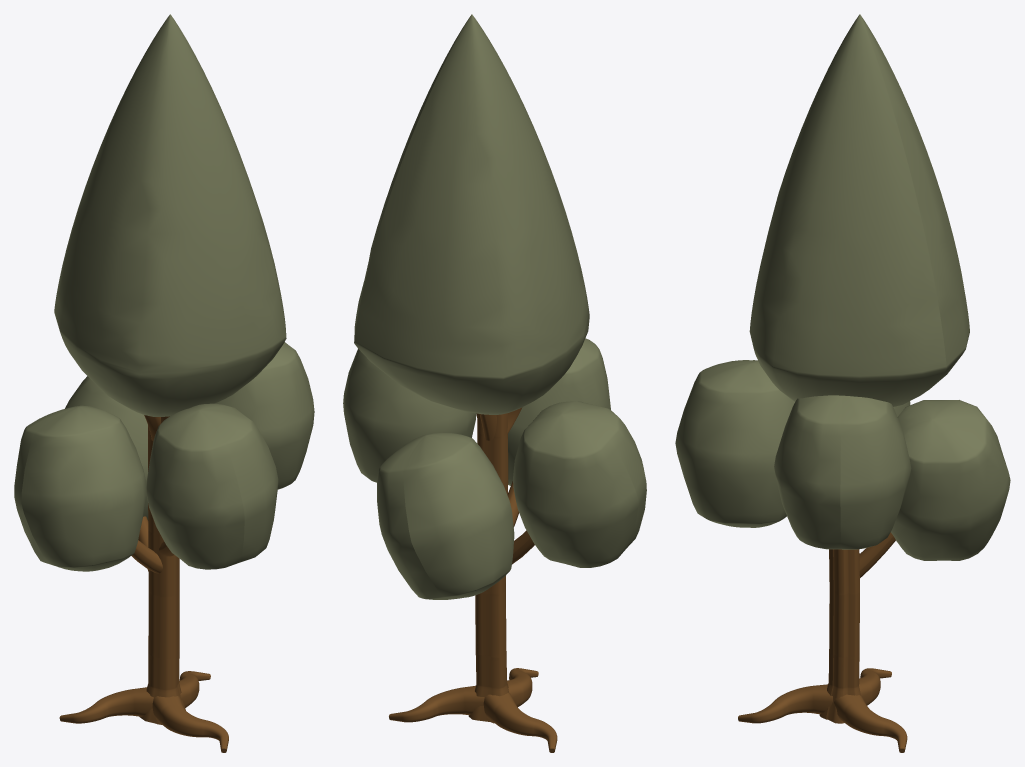
The model's file is RoadTree.fbx.
3 renders of one model, left to right at view 1: azimuth 30°, elevation 25°; view 2: azimuth 150°, elevation 25°; view 3: azimuth 270°, elevation 25°, orthographic. The views are drawn at different scales.
Visible parts, largest first — view 1: Leaves.004, Leaves.002, Leaves.001, Leaves, Rippled, Leaves.003, Roots, Roots.001, Roots.002, Branches.002; view 2: Leaves.004, Leaves.003, Leaves.002, Leaves, Rippled, Leaves.001, Roots.001, Roots.002, Roots; view 3: Leaves.004, Leaves, Leaves.001, Leaves.003, Rippled, Roots, Roots.002, Roots.001, Branches.003.
Boxes of the visible parts, x1=… form: Leaves.004: x1=54, y1=14, x2=286, y2=416; Leaves.002: x1=14, y1=405, x2=146, y2=571; Leaves.001: x1=146, y1=403, x2=278, y2=569; Leaves: x1=215, y1=342, x2=314, y2=489; Rippled: x1=139, y1=425, x2=185, y2=724; Leaves.003: x1=65, y1=376, x2=148, y2=520; Roots: x1=152, y1=696, x2=228, y2=752; Roots.001: x1=59, y1=687, x2=153, y2=723; Roots.002: x1=179, y1=671, x2=210, y2=707; Branches.002: x1=131, y1=540, x2=162, y2=573; Leaves.004: x1=354, y1=14, x2=589, y2=414; Leaves.003: x1=377, y1=432, x2=514, y2=599; Leaves.002: x1=513, y1=401, x2=646, y2=567; Leaves: x1=343, y1=349, x2=476, y2=482; Rippled: x1=468, y1=413, x2=508, y2=723; Leaves.001: x1=508, y1=338, x2=610, y2=485; Roots.001: x1=483, y1=692, x2=557, y2=752; Roots.002: x1=389, y1=685, x2=484, y2=722; Roots: x1=507, y1=668, x2=538, y2=706; Leaves.004: x1=749, y1=14, x2=969, y2=406; Leaves: x1=774, y1=395, x2=911, y2=549; Leaves.001: x1=675, y1=360, x2=794, y2=527; Leaves.003: x1=891, y1=400, x2=1010, y2=560; Rippled: x1=819, y1=549, x2=860, y2=723; Roots: x1=738, y1=684, x2=832, y2=723; Roots.002: x1=834, y1=694, x2=907, y2=752; Roots.001: x1=859, y1=668, x2=891, y2=705; Branches.003: x1=859, y1=532, x2=895, y2=577.
Size of the model in its own units: 223 by 521 by 223.
